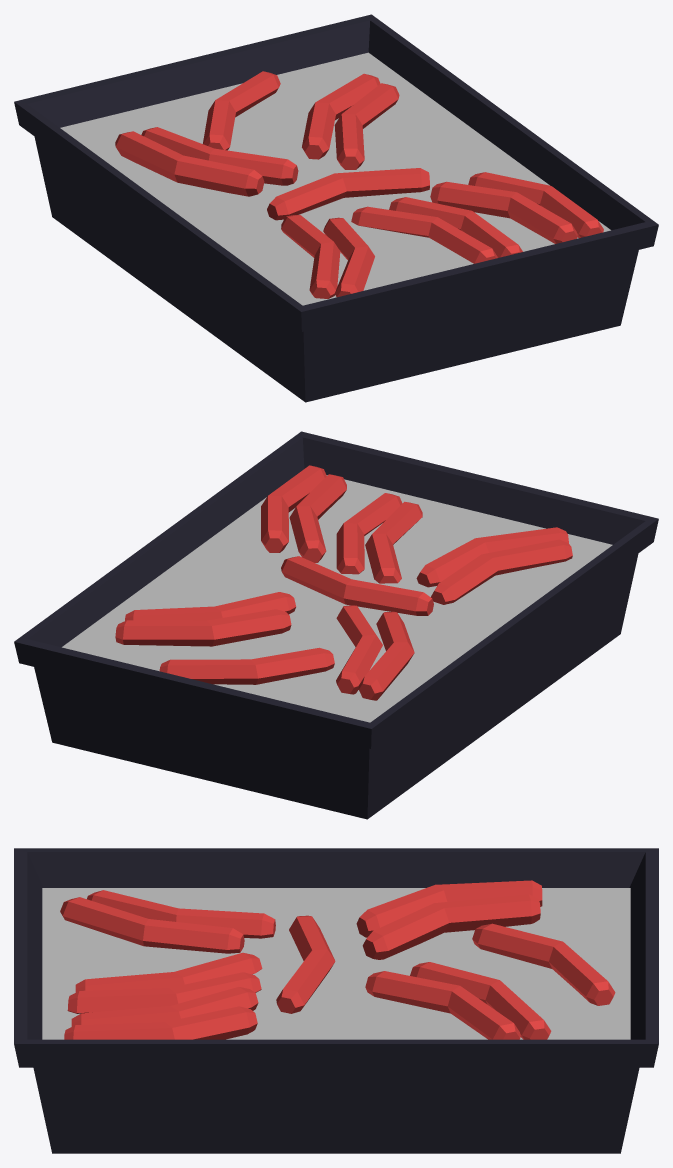
The model's file is Hotdogs.fbx.
3 views of the same model, one above another, from view 1: azimuth 30°, elevation 25°; view 2: azimuth 150°, elevation 25°; view 3: azimuth 270°, elevation 25° (orthographic). The views are drawn at different scales.
Visible parts, largest first — view 1: Hotdogs; view 2: Hotdogs; view 3: Hotdogs.
Boxes of the visible parts, x1,y1,x2,y2 form: Hotdogs: (14,14,658,402); Hotdogs: (14,431,658,819); Hotdogs: (14,848,658,1153).
Size of the model in its own units: 95.05 by 132 by 27.51.
